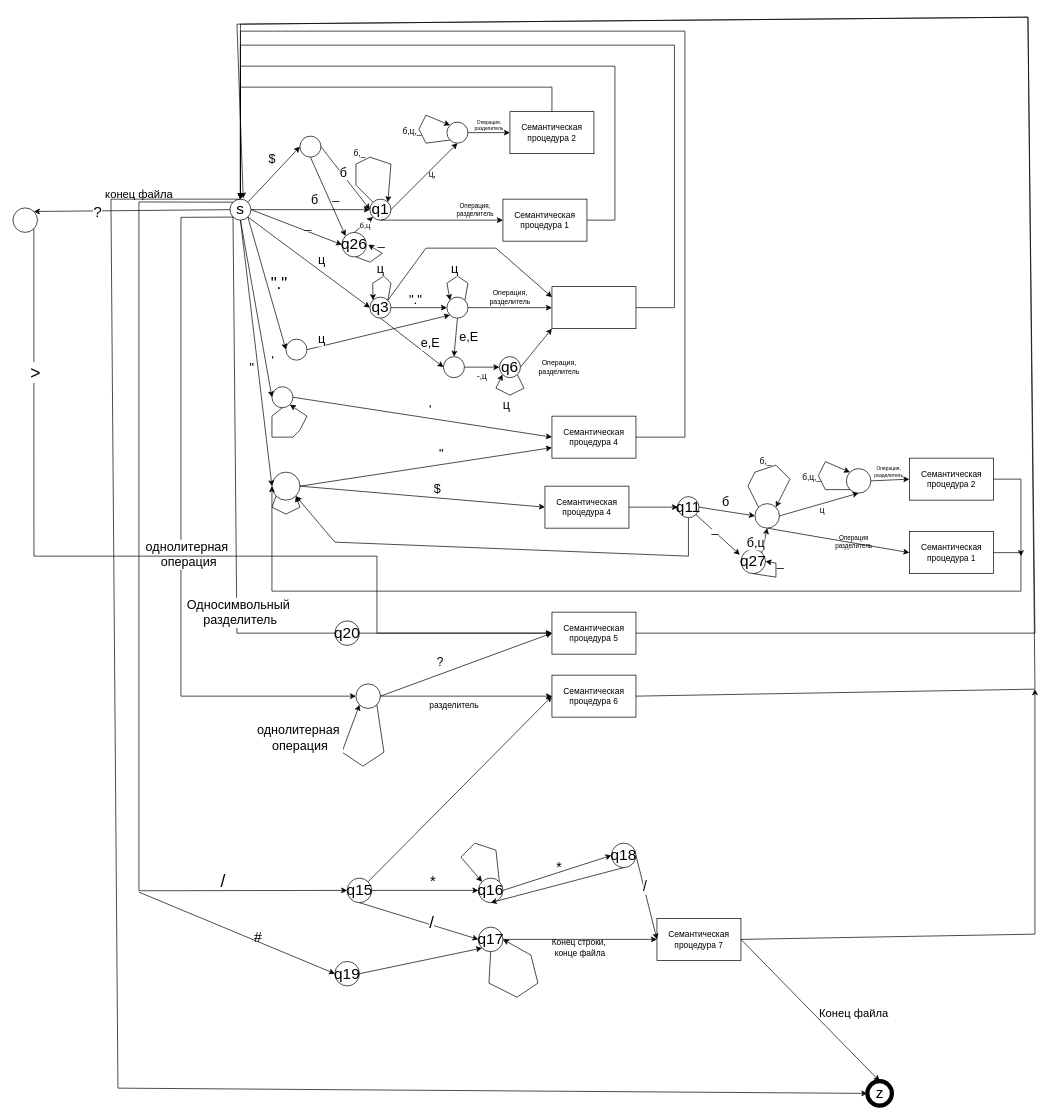
Some shapes in this 1053 by 1120 pixel diagram are drawn without their labels. The centre of each missing label's shape, as x and y in pixels:
q10: (x=285, y=485)
q12: (x=766, y=515)
q13: (x=858, y=480)
q14: (x=367, y=695)
q2: (x=457, y=132)
q28: (x=24, y=219)
q4: (x=457, y=307)
q5: (x=453, y=367)
q7: (x=296, y=349)
q8: (x=282, y=397)
q9: (x=310, y=146)
Семантическая процедура 3: (x=593, y=307)
